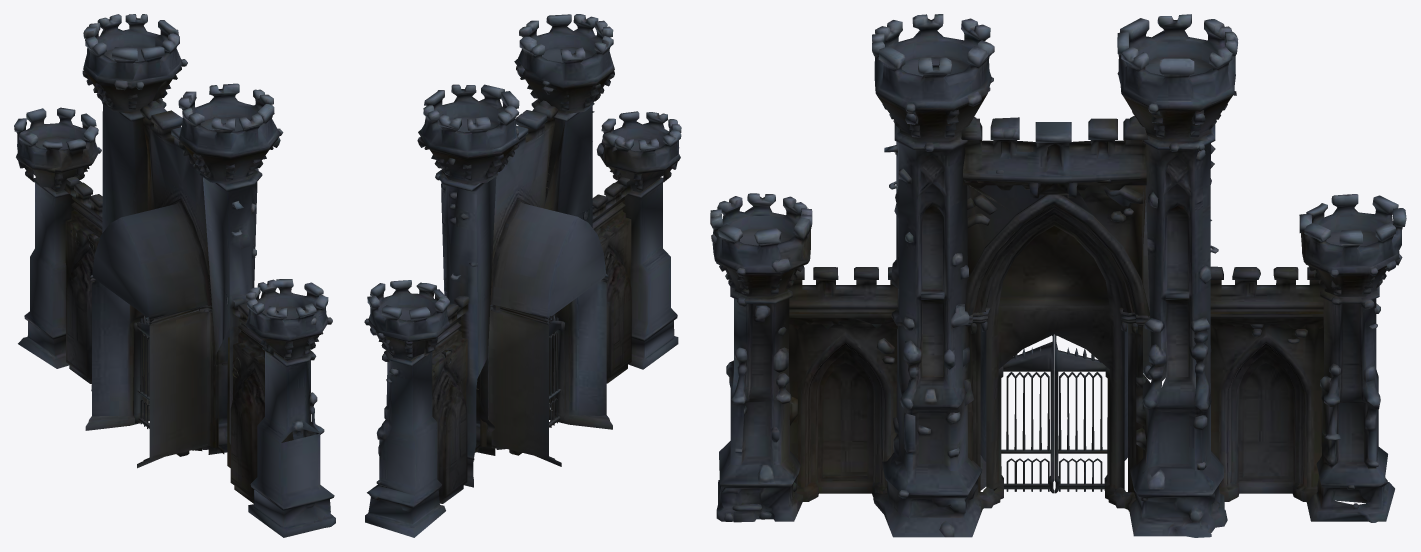
The model's file is gate.glb.
3 renders of one model, left to right at view 1: azimuth 30°, elevation 25°; view 2: azimuth 150°, elevation 25°; view 3: azimuth 270°, elevation 25°, orthographic. The views are drawn at different scales.
Visible parts, largest first — view 1: tripo_node_c1f4f90d-6b49-4ac1-92bf-16cc21b70d1e; view 2: tripo_node_c1f4f90d-6b49-4ac1-92bf-16cc21b70d1e; view 3: tripo_node_c1f4f90d-6b49-4ac1-92bf-16cc21b70d1e.
Boxes of the visible parts, x1,y1,x2,y2 form: tripo_node_c1f4f90d-6b49-4ac1-92bf-16cc21b70d1e: (14,14,335,537); tripo_node_c1f4f90d-6b49-4ac1-92bf-16cc21b70d1e: (364,14,681,537); tripo_node_c1f4f90d-6b49-4ac1-92bf-16cc21b70d1e: (710,14,1406,537).
Size of the model in its own units: 0.2466 by 0.7466 by 0.9995.
1 material, 1 textured.
